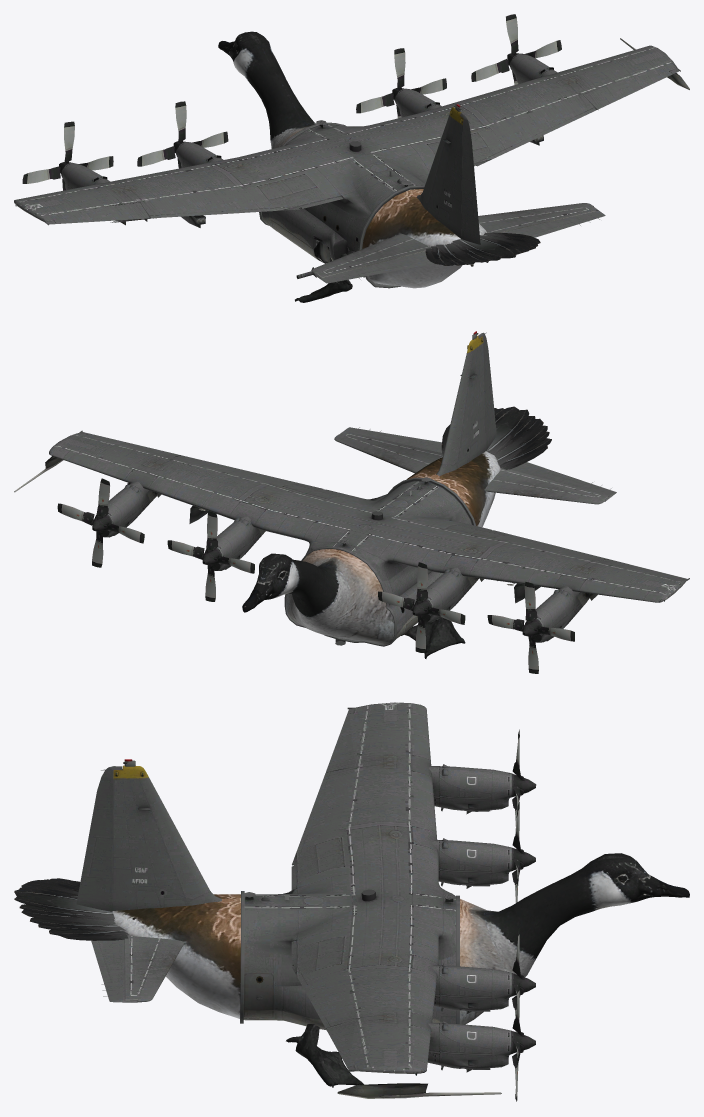
Rendered from Bomborbini.obj.
The picture shows the model from 3 angles, top to bottom: view 1: azimuth 30°, elevation 25°; view 2: azimuth 150°, elevation 25°; view 3: azimuth 270°, elevation 25°; orthographic projection. The views are drawn at different scales.
Visible parts, largest first — view 1: Hullmaterial2501, Hull001material2501, Sm100002material01, Sm100001material01, Rudder001material2501, Aileronrmaterial2501, Aileronlmaterial2501, Prop3material2501, Prop4material2501, Prop2material2501, Prop1material2501, Elevatorl001material2501 (+4 smaller); view 2: Hullmaterial2501, Sm100001material01, Hull001material2501, Sm100002material01, Prop3material2501, Prop2material2501, Prop1material2501, Prop4material2501, Sm100003material01, Elevatorl001material2501, Rudder001material2501, Elevatorr001material2501 (+2 smaller); view 3: Hullmaterial2501, Sm100002material01, Hull001material2501, Sm100001material01, Rudder001material2501, Sm100003material01, Elevatorr001material2501, Aileronlmaterial2501, Aileronrmaterial2501, Prop4material2501, Prop2material2501, Prop1material2501 (+1 smaller).
Boxes of the visible parts, x1,y1,x2,y2 form: Hullmaterial2501: (14,38,689,288); Hull001material2501: (311,104,597,277); Sm100002material01: (362,189,540,288); Sm100001material01: (218,31,316,148); Rudder001material2501: (460,113,482,244); Aileronrmaterial2501: (583,61,679,109); Aileronlmaterial2501: (39,202,149,224); Prop3material2501: (356,48,446,118); Prop4material2501: (471,14,561,84); Prop2material2501: (137,101,228,168); Prop1material2501: (22,121,113,190); Elevatorl001material2501: (315,251,433,283); Hullmaterial2501: (14,430,689,646); Sm100001material01: (242,549,394,644); Hull001material2501: (334,331,609,504); Sm100002material01: (406,406,551,527); Prop3material2501: (167,511,254,601); Prop2material2501: (378,562,465,653); Prop1material2501: (487,582,574,673); Prop4material2501: (57,478,144,567); Sm100003material01: (401,617,465,658); Elevatorl001material2501: (510,462,616,501); Rudder001material2501: (478,332,498,450); Elevatorr001material2501: (340,427,441,452); Hullmaterial2501: (240,702,513,1098); Sm100002material01: (14,878,240,1018); Hull001material2501: (112,759,221,1002); Sm100001material01: (460,853,689,1024); Rudder001material2501: (73,766,122,911); Sm100003material01: (286,1024,363,1087); Elevatorr001material2501: (91,939,137,1002); Aileronlmaterial2501: (326,705,371,772); Aileronrmaterial2501: (326,1020,371,1069); Prop4material2501: (512,983,535,1101); Prop2material2501: (512,801,535,902); Prop1material2501: (512,729,536,835).
Size of the model in its own units: 117 by 44.09 by 90.3.
2 materials, 2 textured.
